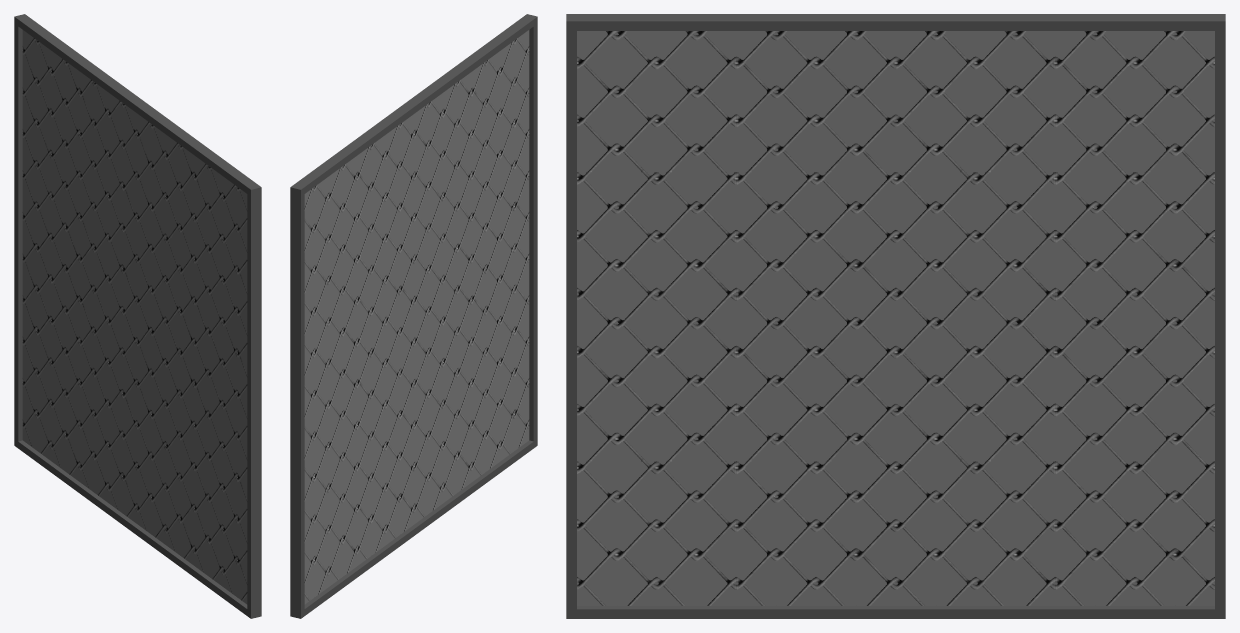
File: fence.glb
3 renders of one model, left to right at view 1: azimuth 30°, elevation 25°; view 2: azimuth 150°, elevation 25°; view 3: azimuth 270°, elevation 25°, orthographic. The views are drawn at different scales.
Parts seen in each view (by area): view 1: Fence.001, Fence; view 2: Fence.001, Fence; view 3: Fence, Fence.001.
Boxes of the visible parts, bbox=[...] form: Fence.001: bbox=[14, 15, 257, 618]; Fence: bbox=[18, 14, 261, 617]; Fence.001: bbox=[294, 15, 537, 618]; Fence: bbox=[290, 14, 530, 617]; Fence: bbox=[566, 16, 1225, 618]; Fence.001: bbox=[566, 14, 1225, 606].
Size of what is drawn, in the model's own units: 0.0534 by 2.07 by 2.07.
Materials: 2 (1 with a texture image).
